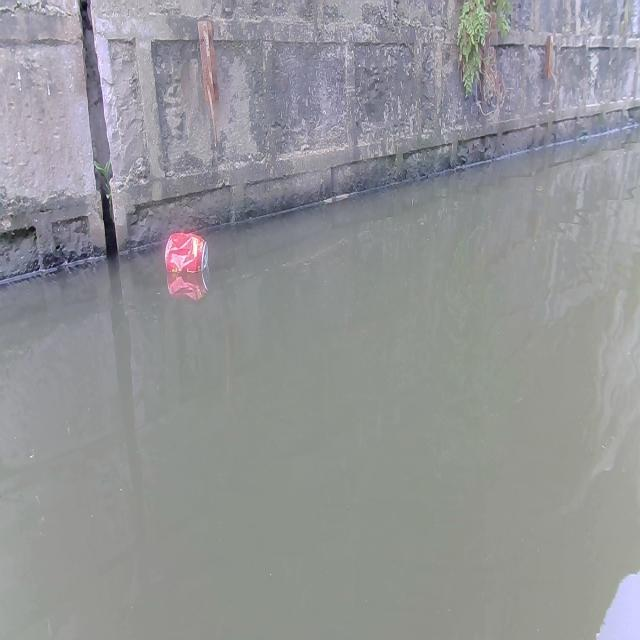bottle: (162, 232, 208, 276)
